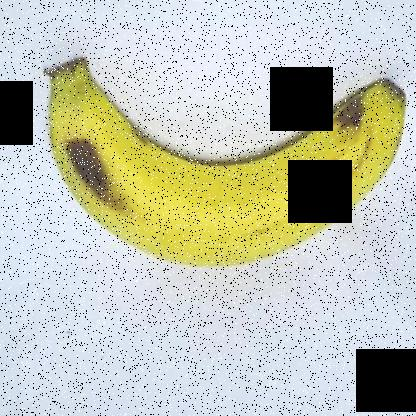freshripe: (37, 42, 415, 285)
